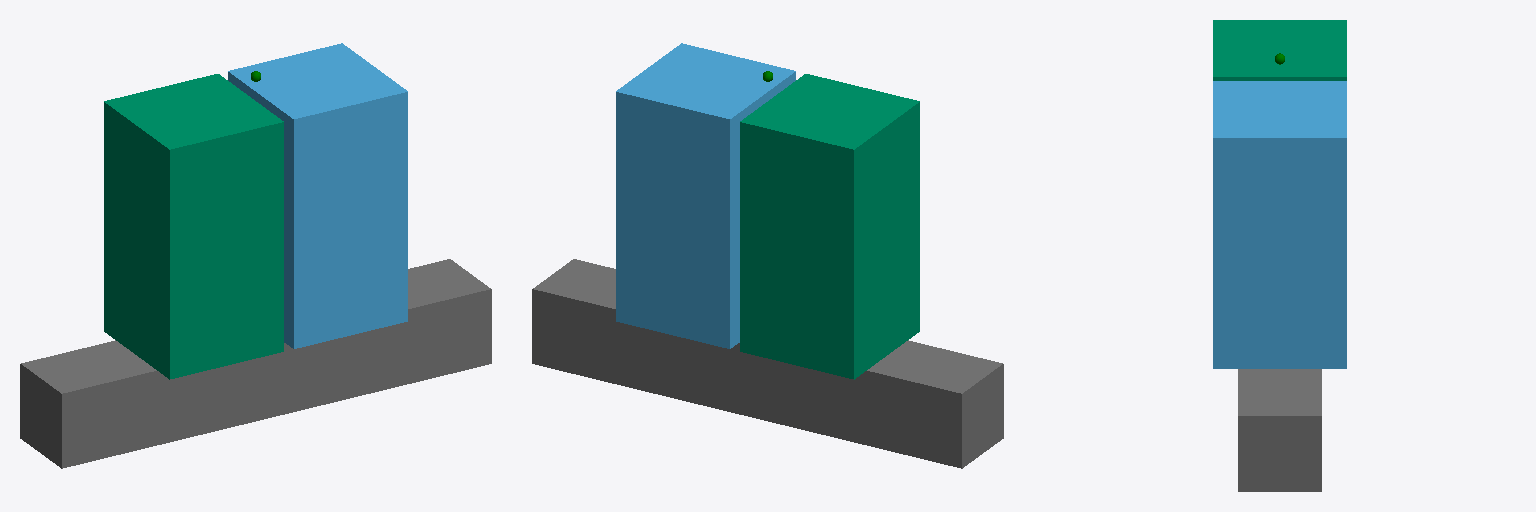
The robot description file, URDF, robot "BFG":
<?xml version="1.0" ?>
<robot name="BFG">
  <link name="baseLink">
    <inertial>
       <origin rpy="3.141592653589793 0 0" xyz="0 0 0"/>
       <mass value="0.001"/>
       <inertia ixx="0.01" ixy="0" ixz="0" iyy="0.01" iyz="0" izz="0.01"/>
    </inertial>
    <visual>
      <origin rpy="0 0 0" xyz="0 0.0 0.075"/>
      <geometry>
			<box size="0.9 0.15 0.15"/>
      </geometry>
       <material name="grey">
        <color rgba="0.5 0.5 0.5 1.0"/>
      </material>
    </visual>
  </link>
  <link name="leftfinger">
      <contact>
      <friction_anchor/>
      <stiffness value="30000.0"/>
      <damping value="1000.0"/>
      <spinning_friction value="0.1"/>
      <lateral_friction value="1.0"/>
    </contact>
  	<inertial>
      <origin rpy="0 0 0" xyz="0 0 0"/>
       <mass value="0.1"/>
       <inertia ixx="0.1" ixy="0" ixz="0" iyy="0.1" iyz="0" izz="0.1"/>
    </inertial>
    <visual>
      <origin rpy="0 0 0" xyz="0.23 0.0 0.0"/>
      <geometry>
        <box size="0.46 0.24 0.24"/>
      </geometry>
    </visual>
    <collision>
      <origin rpy="0 0 0" xyz="0.23 0.0 0.0"/>
      <geometry>
        <box size="0.46 0.24 0.24"/>
      </geometry>
      <material name="white"/>
    </collision>
  </link>
  <link name="rightfinger">
      <contact>
      <friction_anchor/>
      <stiffness value="30000.0"/>
      <damping value="1000.0"/>
      <spinning_friction value="0.1"/>
      <lateral_friction value="1.0"/>
    </contact>
  	<inertial>
      <origin rpy="0 0 0" xyz="0 0 0"/>
       <mass value="0.1"/>
       <inertia ixx="0.1" ixy="0" ixz="0" iyy="0.1" iyz="0" izz="0.1"/>
    </inertial>
    <visual>
      <origin rpy="0 0 0" xyz="0.23 0.0 0.0"/>
      <geometry>
        <box size="0.46 0.24 0.24"/>
      </geometry>
    </visual>
    <collision>
      <origin rpy="0 0 0" xyz="0.23 0.0 0.0"/>
      <geometry>
        <box size="0.46 0.24 0.24"/>
      </geometry>
      <material name="white"/>
    </collision>
  </link>
  <joint name="finger_joint1" type="prismatic">
    <parent link="baseLink"/>
    <child link="leftfinger"/>
    <origin rpy="0 -1.57079632679 0" xyz="0.13 0 0.15"/>
    <axis xyz="0 0 1"/>
    <limit effort="200" lower="0.0" upper="0.45" velocity="0.2"/>
  </joint>
  <joint name="finger_joint2" type="prismatic">
    <parent link="baseLink"/>
    <child link="rightfinger"/>
    <origin rpy="0 -1.57079632679 0" xyz="-0.13 0 0.15"/>
    <axis xyz="0 0 -1"/>
    <limit effort="200" lower="-0" upper="0.45" velocity="0.2"/>
    <mimic joint="finger_joint1"/>
  </joint>

  <joint name="gripping_trafo" type="fixed">
		<parent link="baseLink"/>
		<child link="tcp"/>
		<origin xyz="0 0.0 0.65" rpy="3.141592653589793 0 0"/>
  </joint>

  <link name="tcp">
    <visual>
        <origin xyz="0 0 0.0" rpy="0 0 0"/>
        <geometry>
           <sphere radius="0.01"/>
        </geometry>
        <material name="black">
            <color rgba="0.0 0.5 0.0 1.0"/>
        </material>
    </visual>
  </link>

</robot>

--- What the picture shows (computed from the rendered views, not written in the file) ---
The picture shows the robot from 3 angles, left to right: view 1: azimuth 30°, elevation 25°; view 2: azimuth 150°, elevation 25°; view 3: azimuth 270°, elevation 25°; orthographic projection.
Model BFG with 4 links and 3 joints (2 prismatic, 1 fixed), rooted at baseLink, posed every joint at zero.
Links seen in each view (by area): view 1: rightfinger, baseLink, leftfinger; view 2: rightfinger, baseLink, leftfinger; view 3: leftfinger, baseLink, rightfinger.
Link boxes in pixels (x1=…): rightfinger: x1=104, y1=74, x2=283, y2=379; baseLink: x1=20, y1=259, x2=491, y2=468; leftfinger: x1=228, y1=43, x2=407, y2=348; rightfinger: x1=740, y1=74, x2=919, y2=379; baseLink: x1=532, y1=259, x2=1003, y2=468; leftfinger: x1=616, y1=43, x2=795, y2=348; leftfinger: x1=1213, y1=81, x2=1346, y2=368; baseLink: x1=1238, y1=369, x2=1321, y2=491; rightfinger: x1=1213, y1=20, x2=1346, y2=80.
Size in the robot's own frame: 0.9 by 0.24 by 0.66 metres.
Geometry: primitives only (box / cylinder / sphere), no mesh files.
